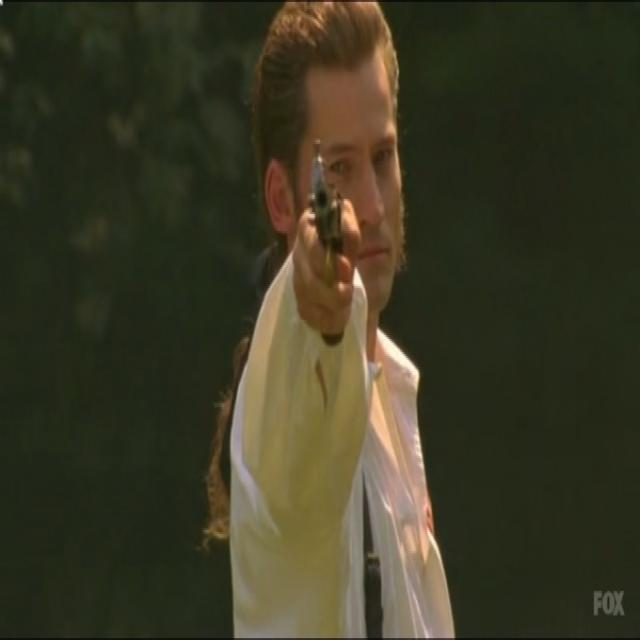weapons: (276, 107, 362, 310)
